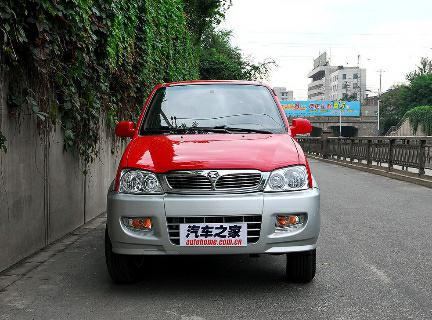众泰-2008: (97, 78, 325, 289)
